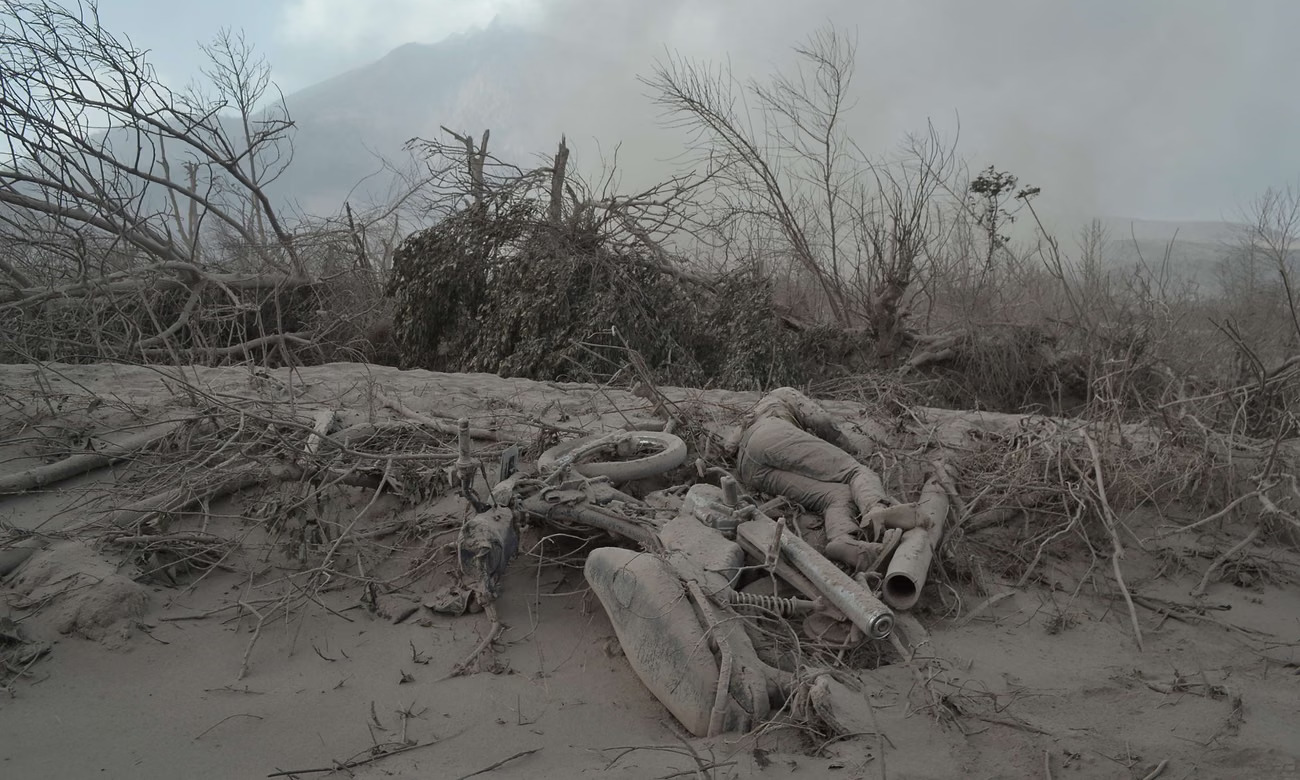Korban: (735, 387, 925, 573)
